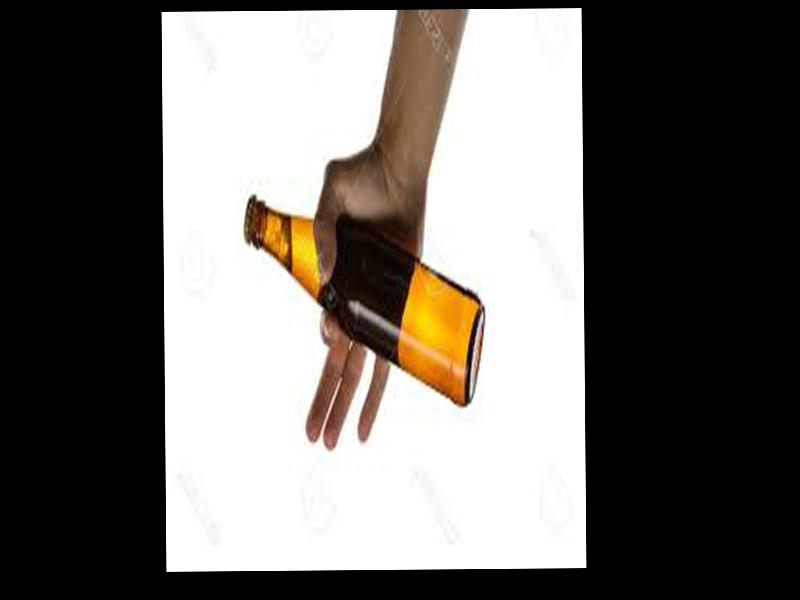Beer: (249, 198, 484, 402)
